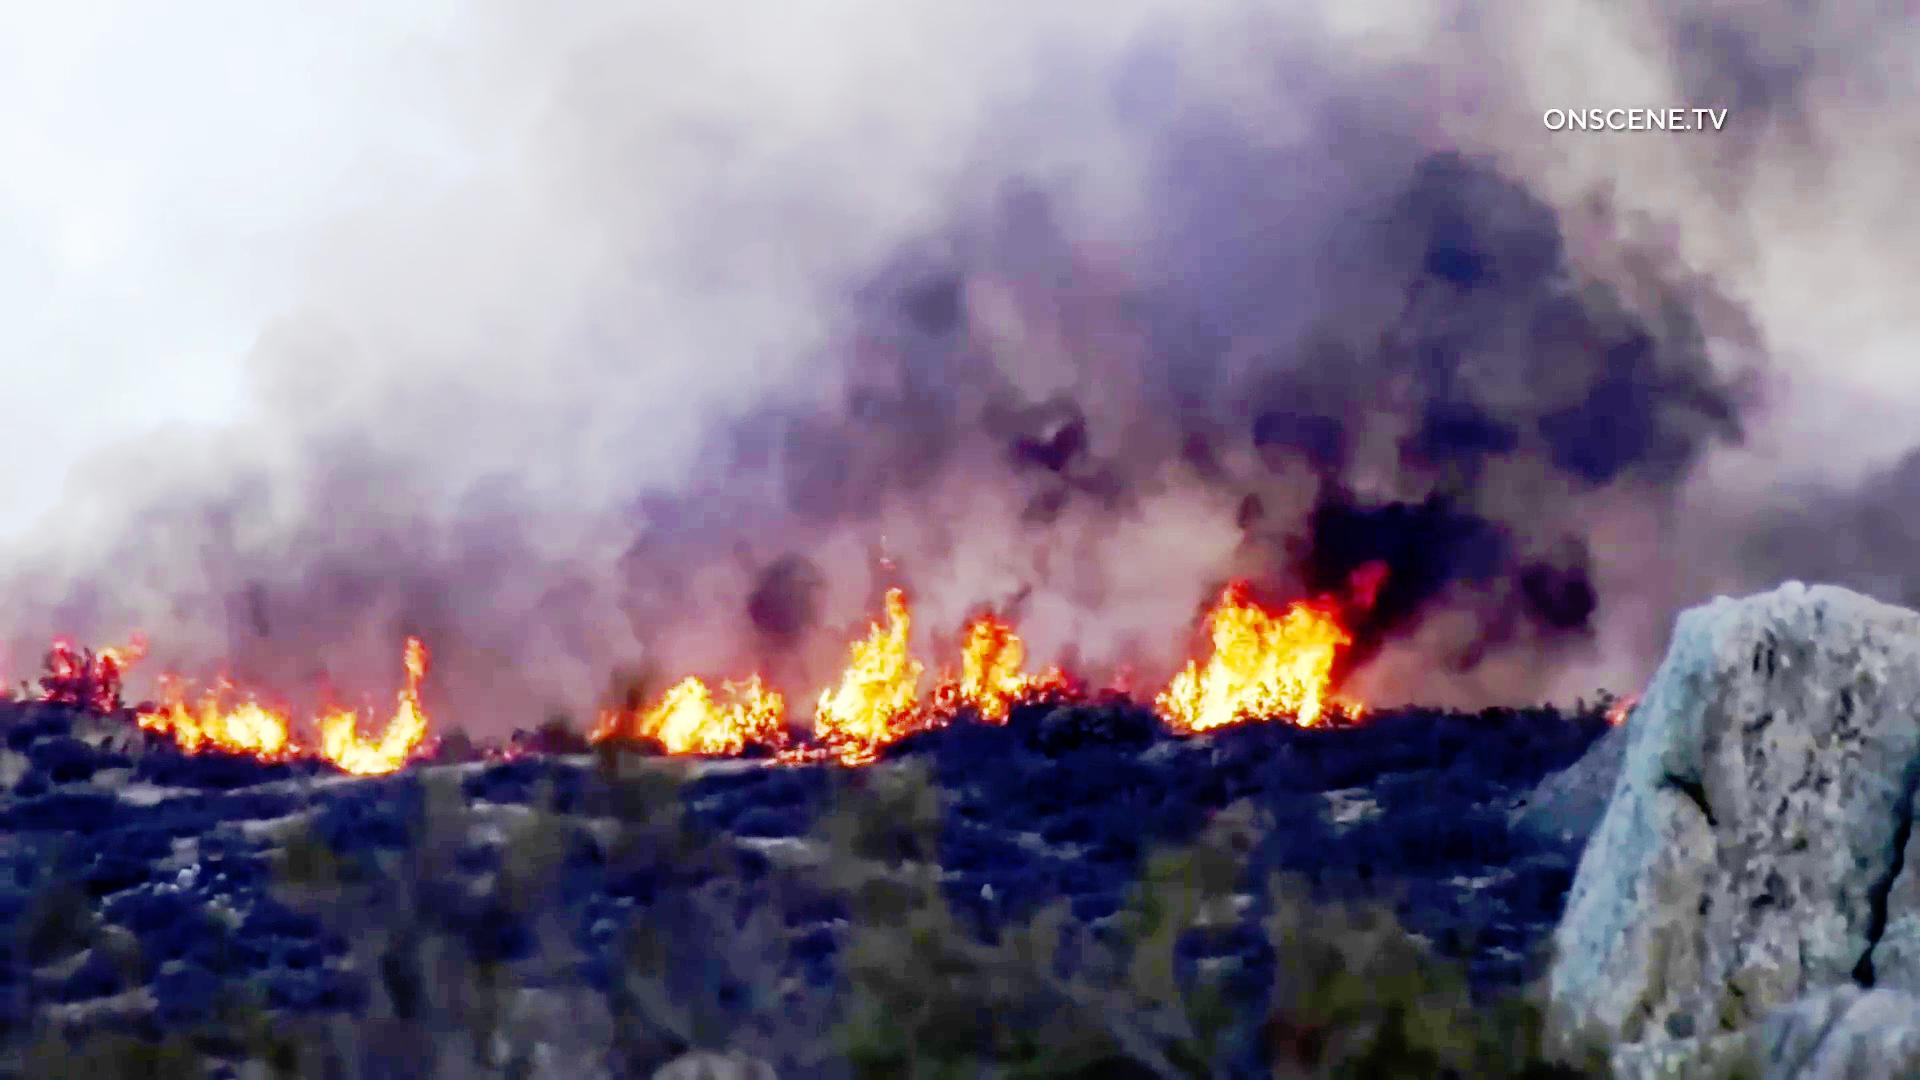fire: (624, 603, 1033, 781), (1147, 571, 1378, 724), (309, 621, 446, 778)
smoke: (694, 166, 1691, 566)
